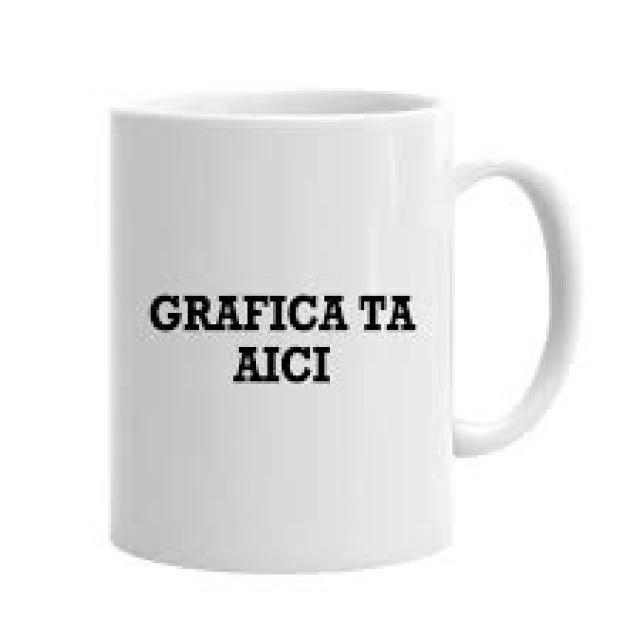taza: (74, 53, 630, 521)
